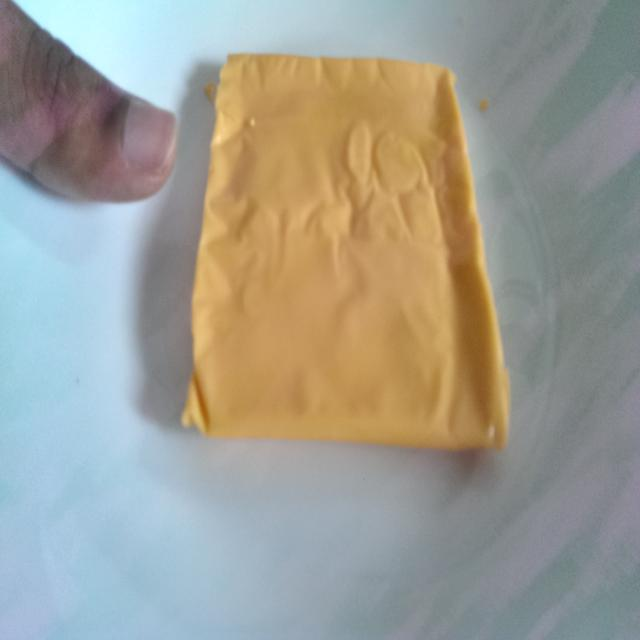cheese: (188, 47, 532, 499)
